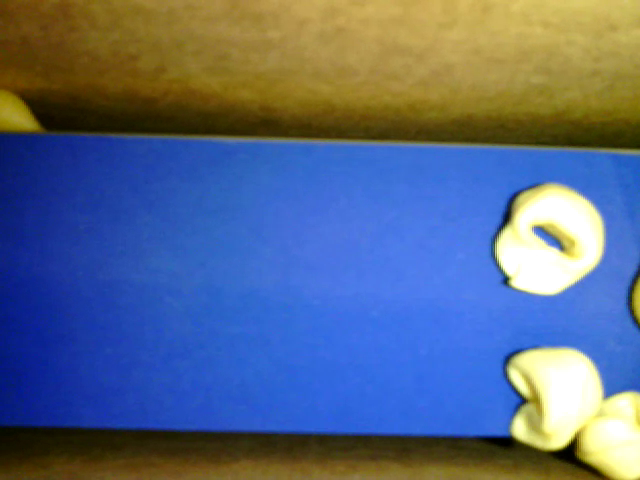tortellini: (494, 182, 604, 295), (505, 344, 604, 452), (574, 390, 639, 478)
